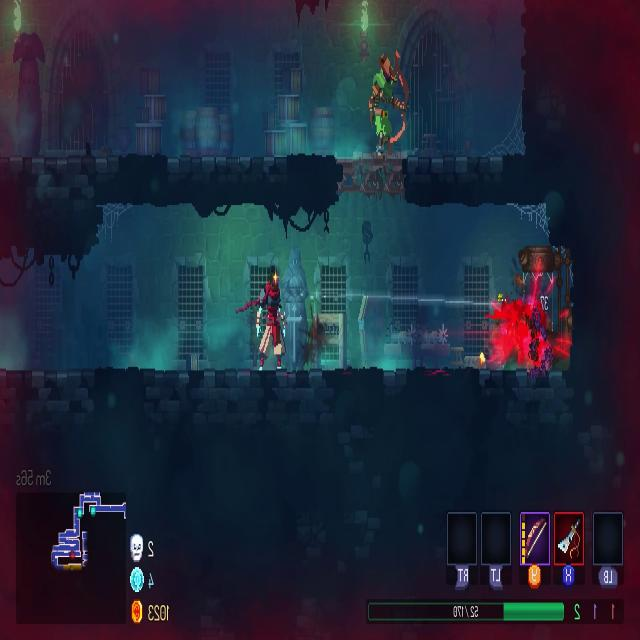agents: (256, 273, 286, 374)
enemy_archer: (369, 53, 409, 158)
wood_floor: (336, 146, 406, 197)
